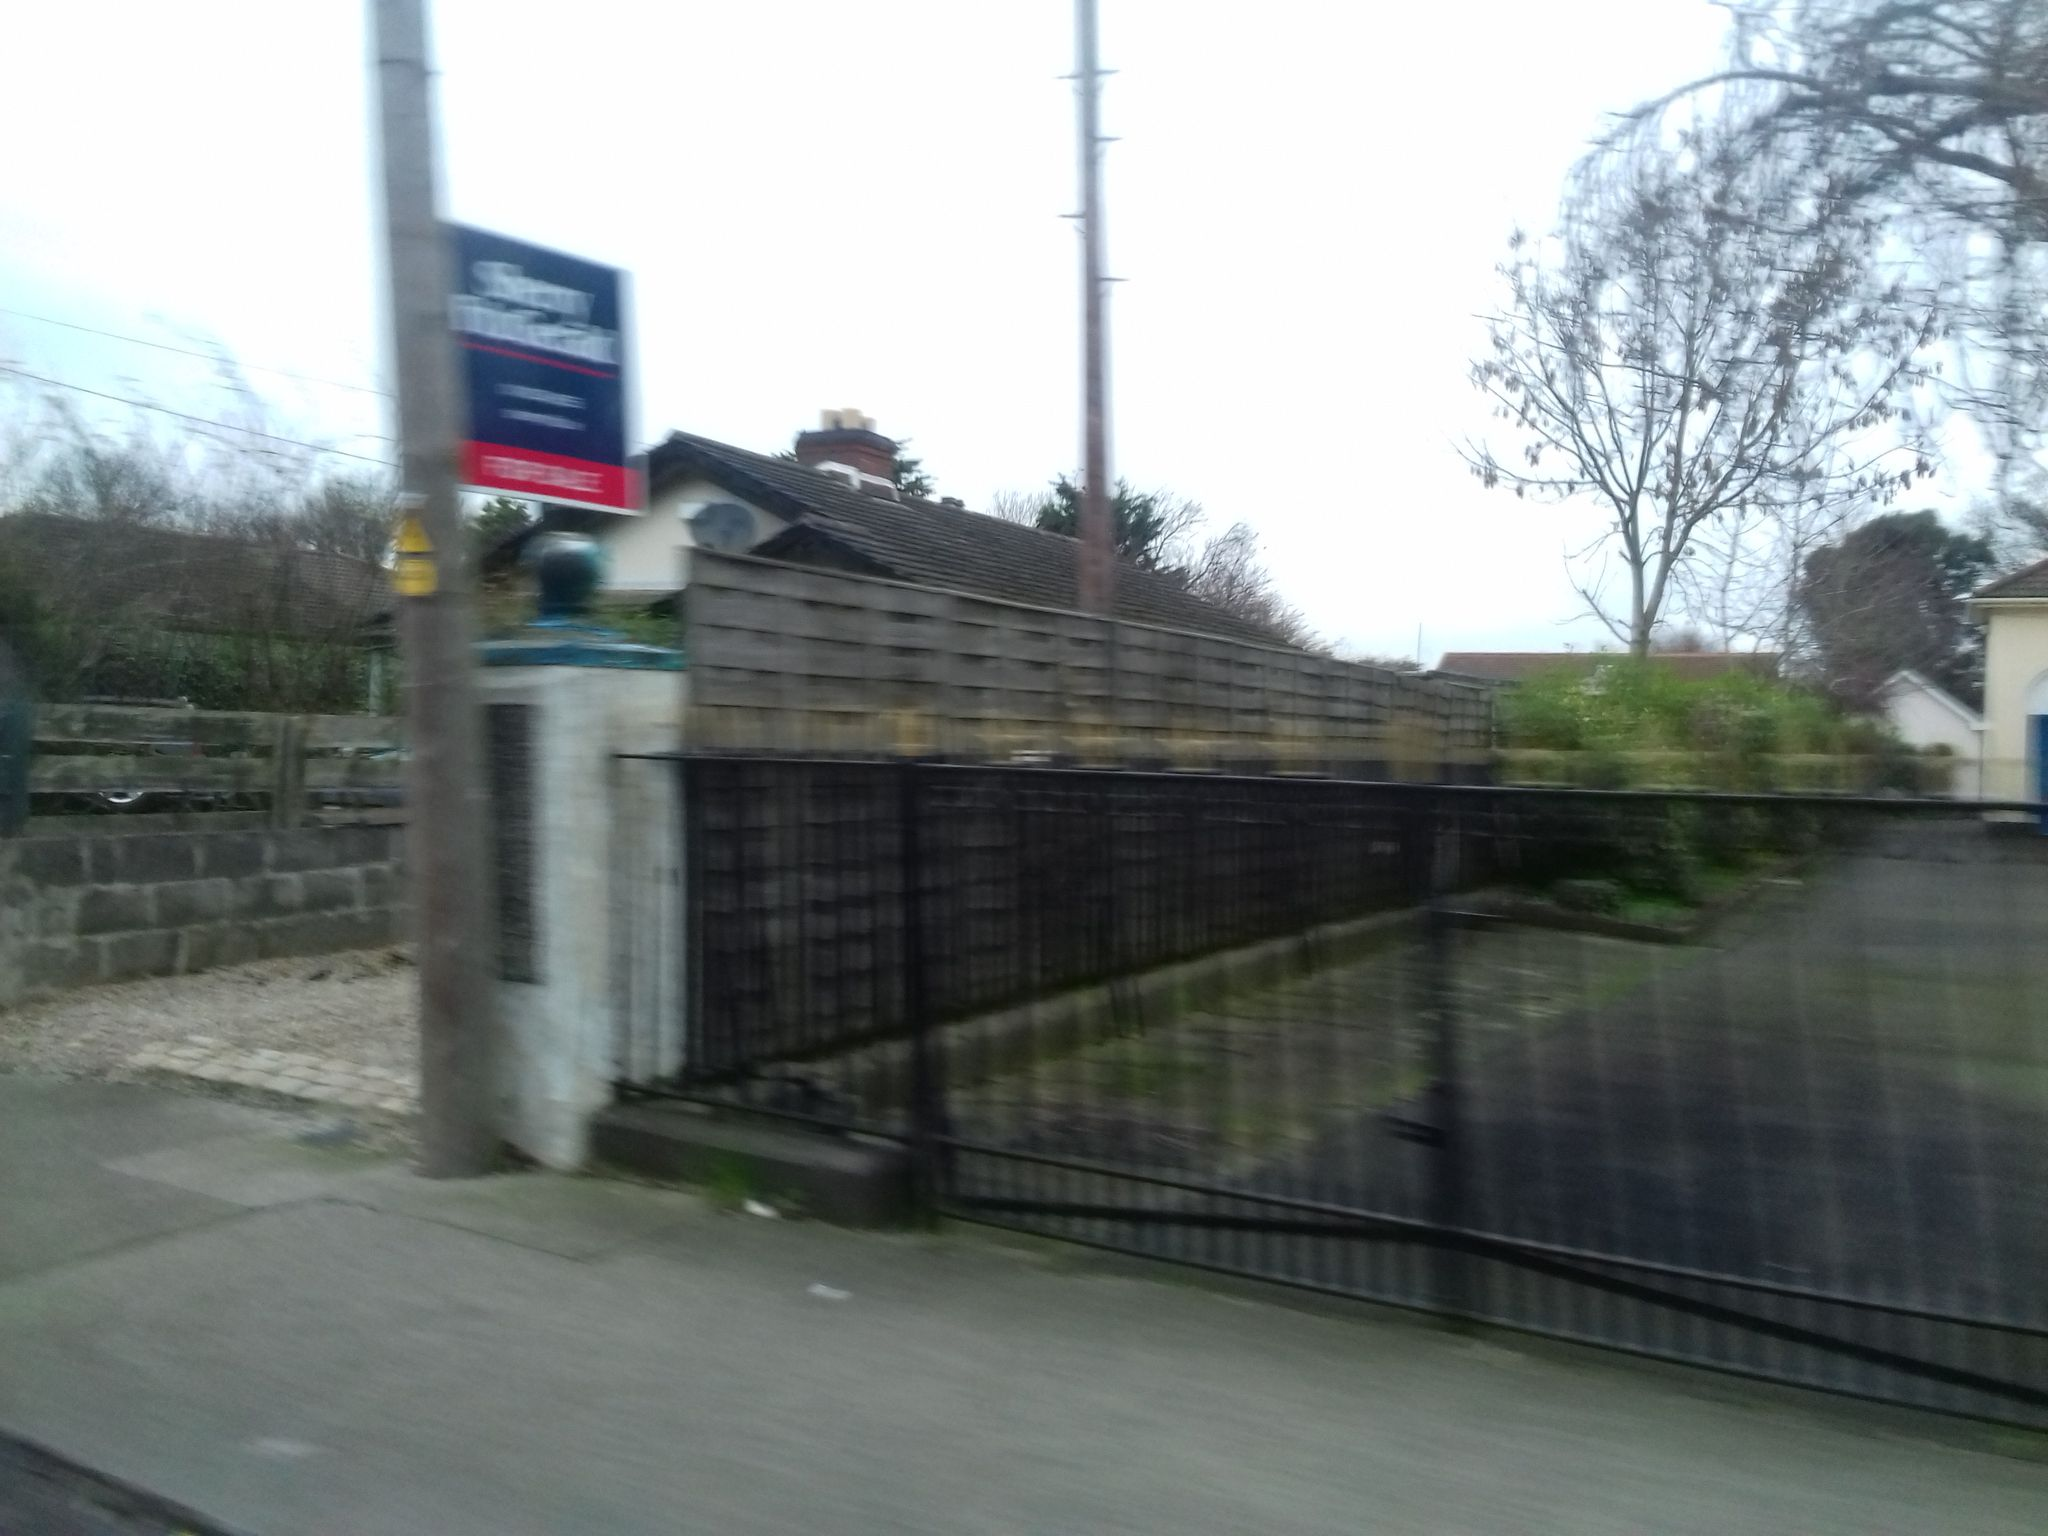property sign: (419, 210, 668, 552)
